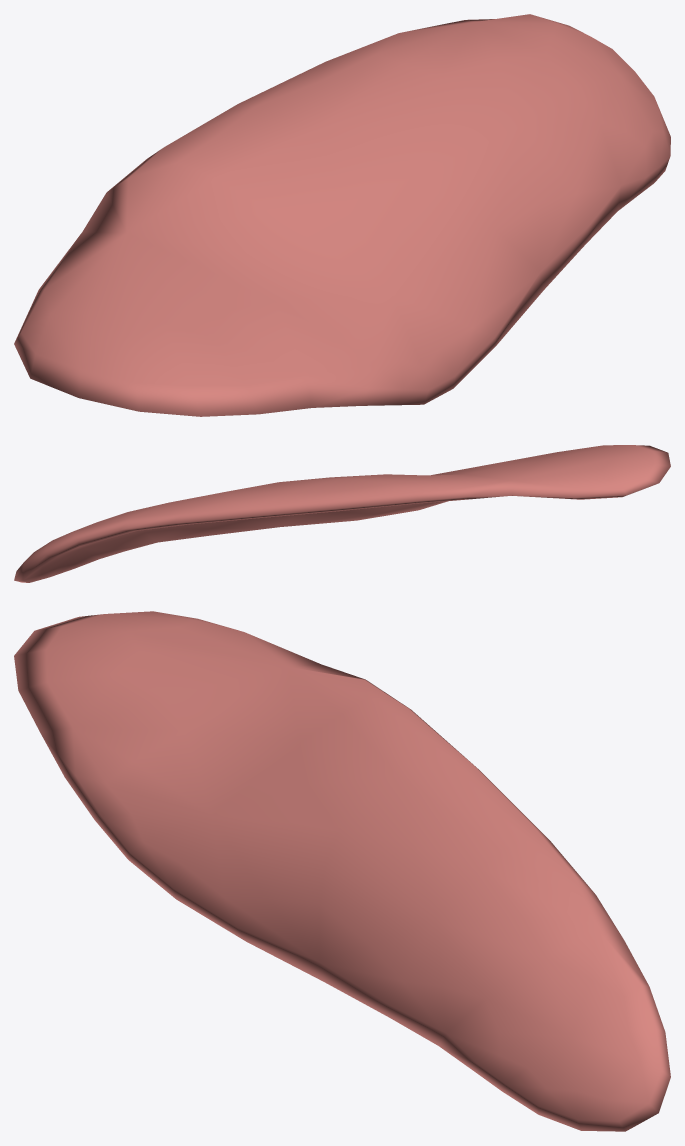
3 renders of one model, top to bottom at view 1: azimuth 30°, elevation 25°; view 2: azimuth 150°, elevation 25°; view 3: azimuth 270°, elevation 25°, orthographic. The views are drawn at different scales.
Parts seen in each view (by area): view 1: ZA_a4e780e3a793f586; view 2: ZA_a4e780e3a793f586; view 3: ZA_a4e780e3a793f586.
Part boxes in pixels (box(x1,y1,x2,y2)): ZA_a4e780e3a793f586: box(14, 14, 670, 416); ZA_a4e780e3a793f586: box(14, 445, 670, 582); ZA_a4e780e3a793f586: box(14, 611, 670, 1131).
Size of the model in its own units: 0.0156 by 0.00382 by 0.0119.
